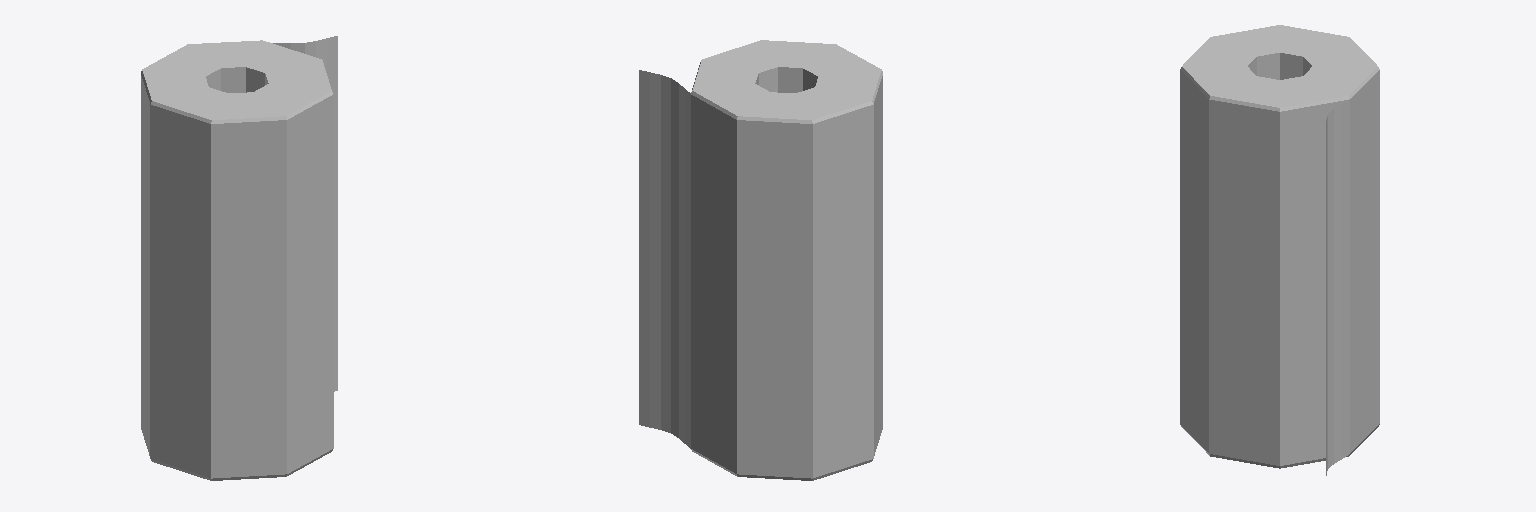
Rendered from Papertowel.obj.
3 views of the same model, side by side, from view 1: azimuth 30°, elevation 25°; view 2: azimuth 150°, elevation 25°; view 3: azimuth 270°, elevation 25° (orthographic).
Parts seen in each view (by area): view 1: Papertowel; view 2: Papertowel; view 3: Papertowel.
Boxes of the visible parts, x1,y1,x2,y2 form: Papertowel: [141, 36, 337, 480]; Papertowel: [639, 40, 882, 480]; Papertowel: [1180, 25, 1379, 475].
Bounding box in the file's own units: 0.319 × 0.5212 × 0.262.